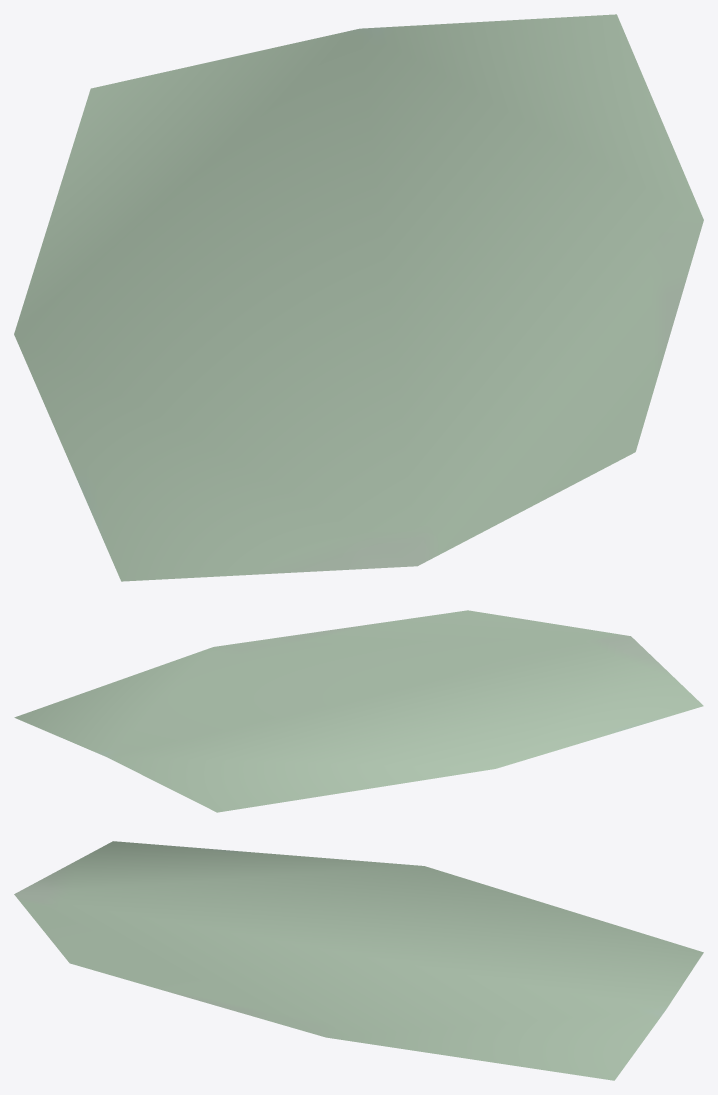
The model's file is TROLLHOLE02_HOLECAP142.fbx.
3 views of the same model, one above another, from view 1: azimuth 30°, elevation 25°; view 2: azimuth 150°, elevation 25°; view 3: azimuth 270°, elevation 25° (orthographic). The views are drawn at different scales.
Visible parts, largest first — view 1: TROLLHOLE02_HOLECAP142; view 2: TROLLHOLE02_HOLECAP142; view 3: TROLLHOLE02_HOLECAP142.
Boxes of the visible parts, x1,y1,x2,y2 form: TROLLHOLE02_HOLECAP142: [14, 14, 703, 581]; TROLLHOLE02_HOLECAP142: [14, 610, 703, 812]; TROLLHOLE02_HOLECAP142: [14, 841, 703, 1080].
Bounding box in the file's own units: 37281 × 2457 × 39801.
Materials: 1 (1 with a texture image).
